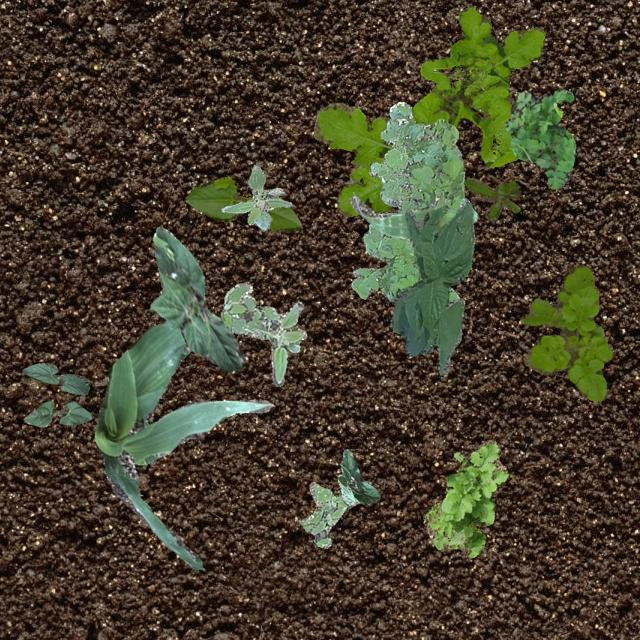crop: (94, 320, 272, 570), (390, 202, 474, 376), (148, 226, 244, 372), (348, 190, 476, 240), (184, 176, 300, 230), (336, 448, 379, 504), (22, 362, 88, 394), (22, 398, 92, 426)
weed: (312, 6, 544, 216), (351, 100, 464, 300), (522, 264, 612, 401), (423, 438, 508, 556), (218, 282, 306, 386), (504, 89, 574, 188), (220, 163, 290, 230), (298, 481, 358, 546), (462, 177, 520, 220)
